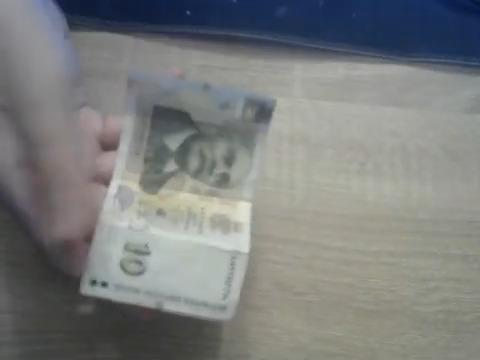10leva: (79, 76, 277, 324)
